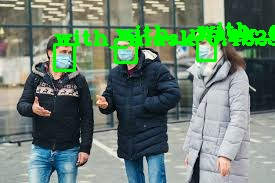with_mask: (189, 25, 228, 64), (45, 35, 76, 73), (112, 31, 143, 63)
